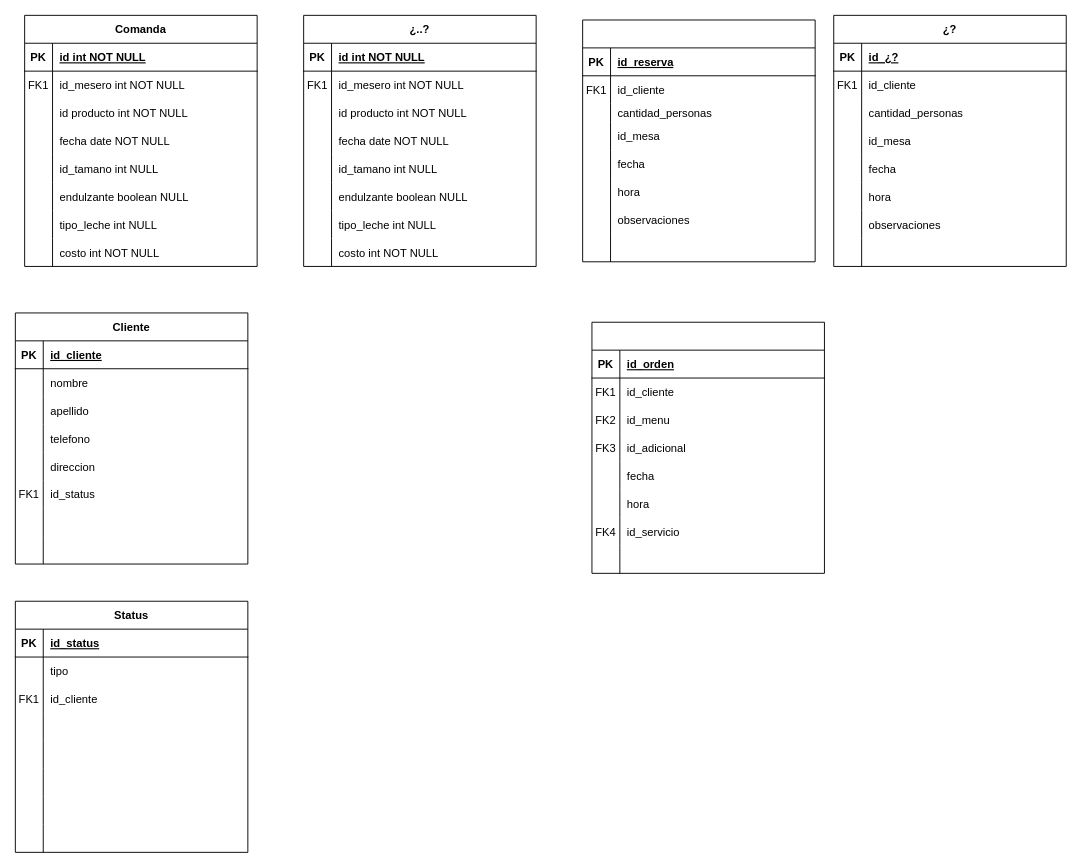
Some shapes in this 1082 by 868 pixel diagram are drawn without their labels. The shapes that lost their labels are listed below. From the top down, each one's box as (x1, y1, x2, y2) in pixels, then its label:
(582, 19, 815, 262): Reservacion
(591, 321, 824, 573): Servicio Domicilio
